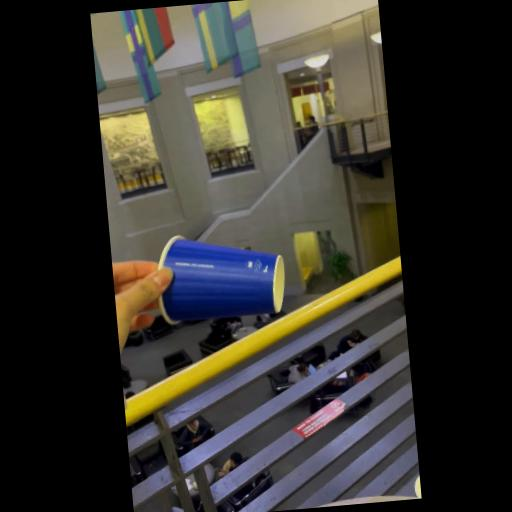lp_paper_cup: (152, 224, 290, 334)
